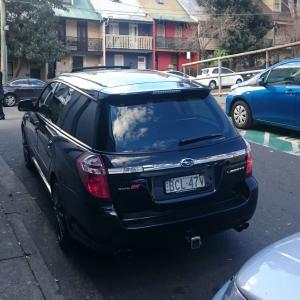Vehicle-registration-plate: (165, 175, 205, 194)
